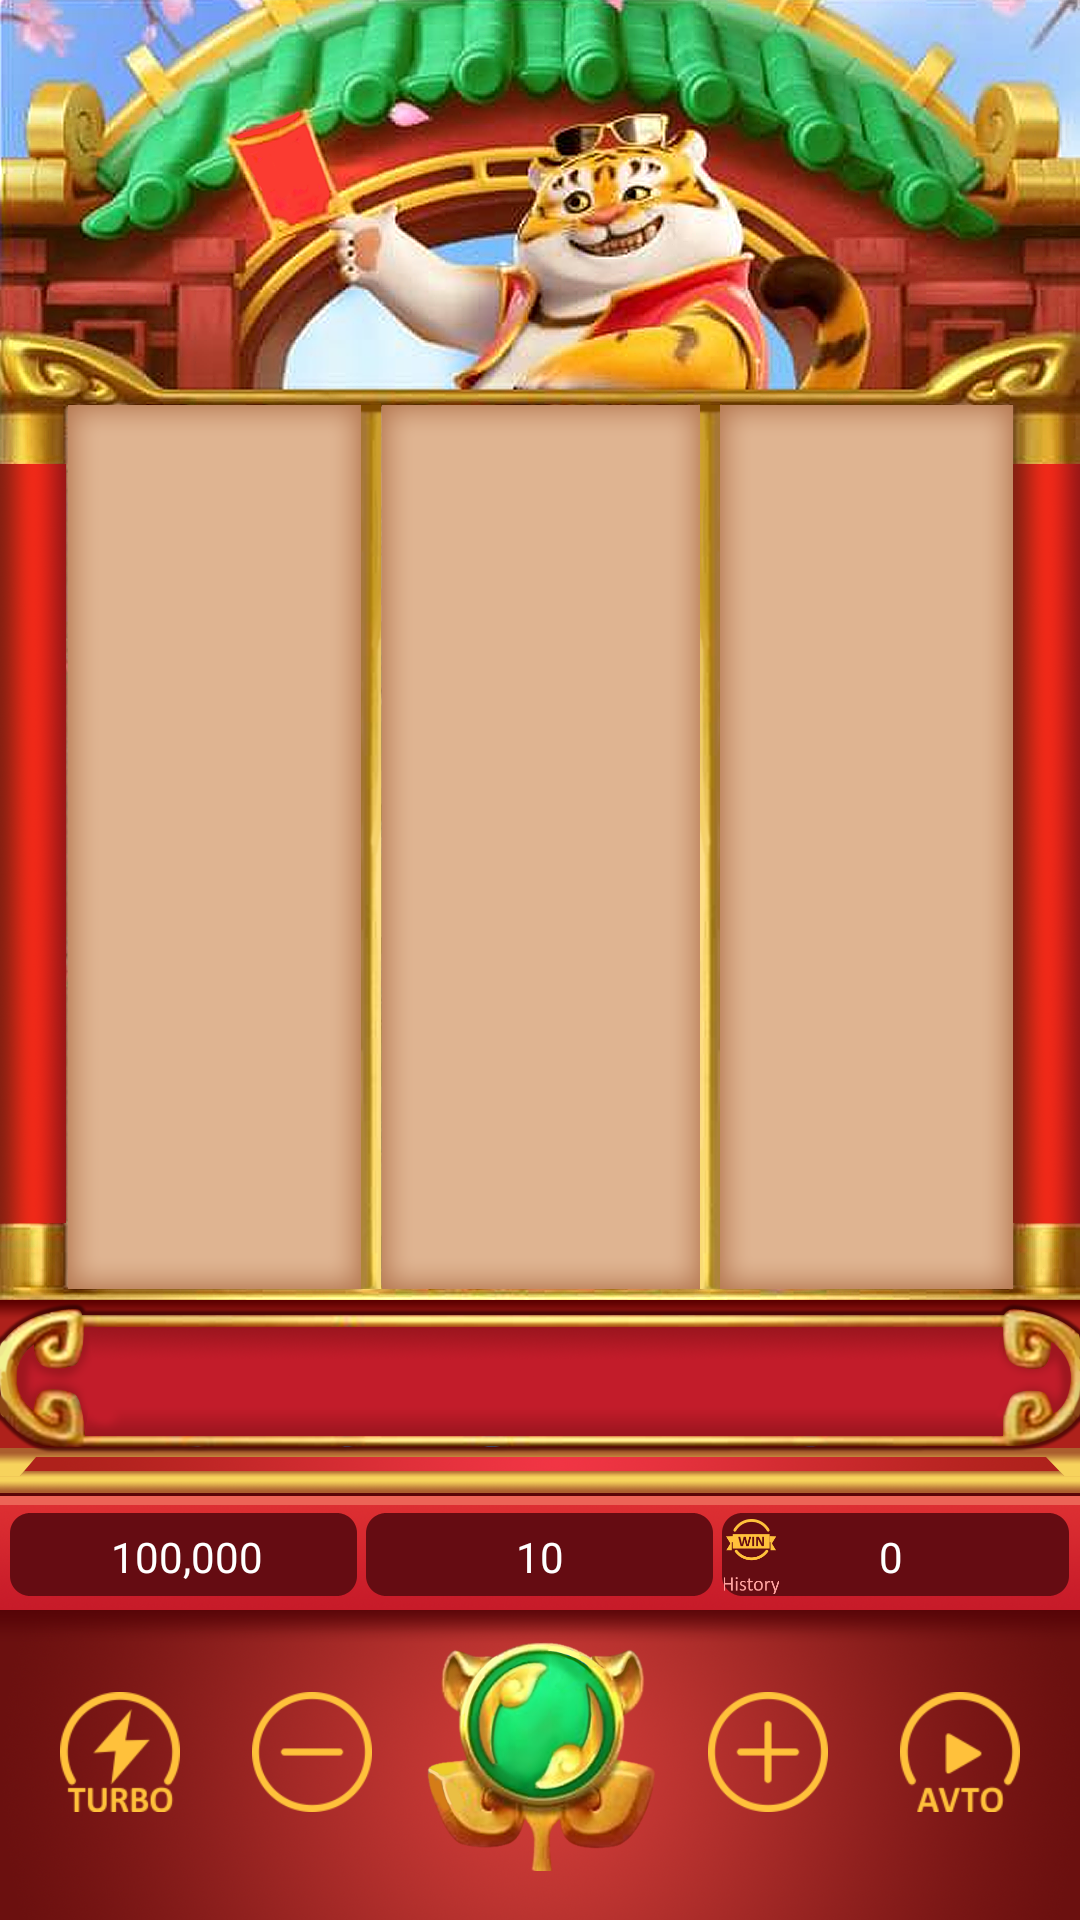

Point at icon controls on the screen. Image size 1080×1920, points as point (x, y).
minus: point (312, 1752)
plus: point (768, 1752)
